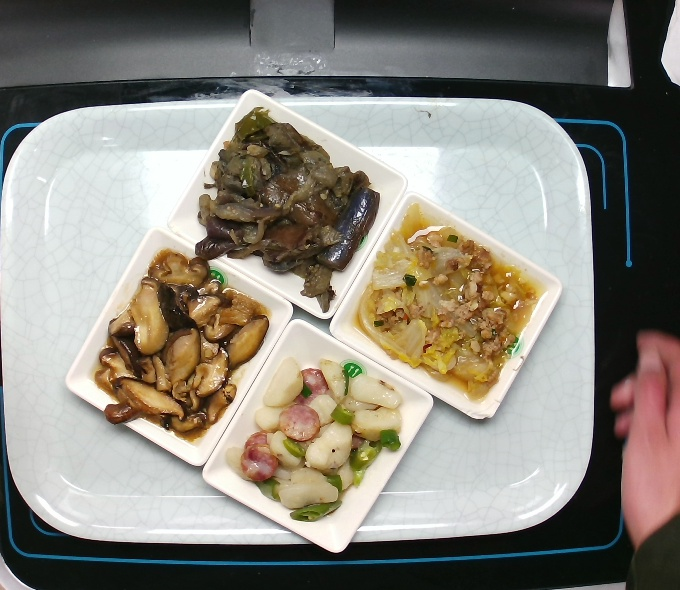wcq-MaTiGuo: (219, 351, 407, 526)
wcq-MoGu: (86, 246, 277, 451)
wcq-QieZi: (190, 101, 386, 321)
wcq-RouMoBaiCai: (345, 199, 548, 405)
